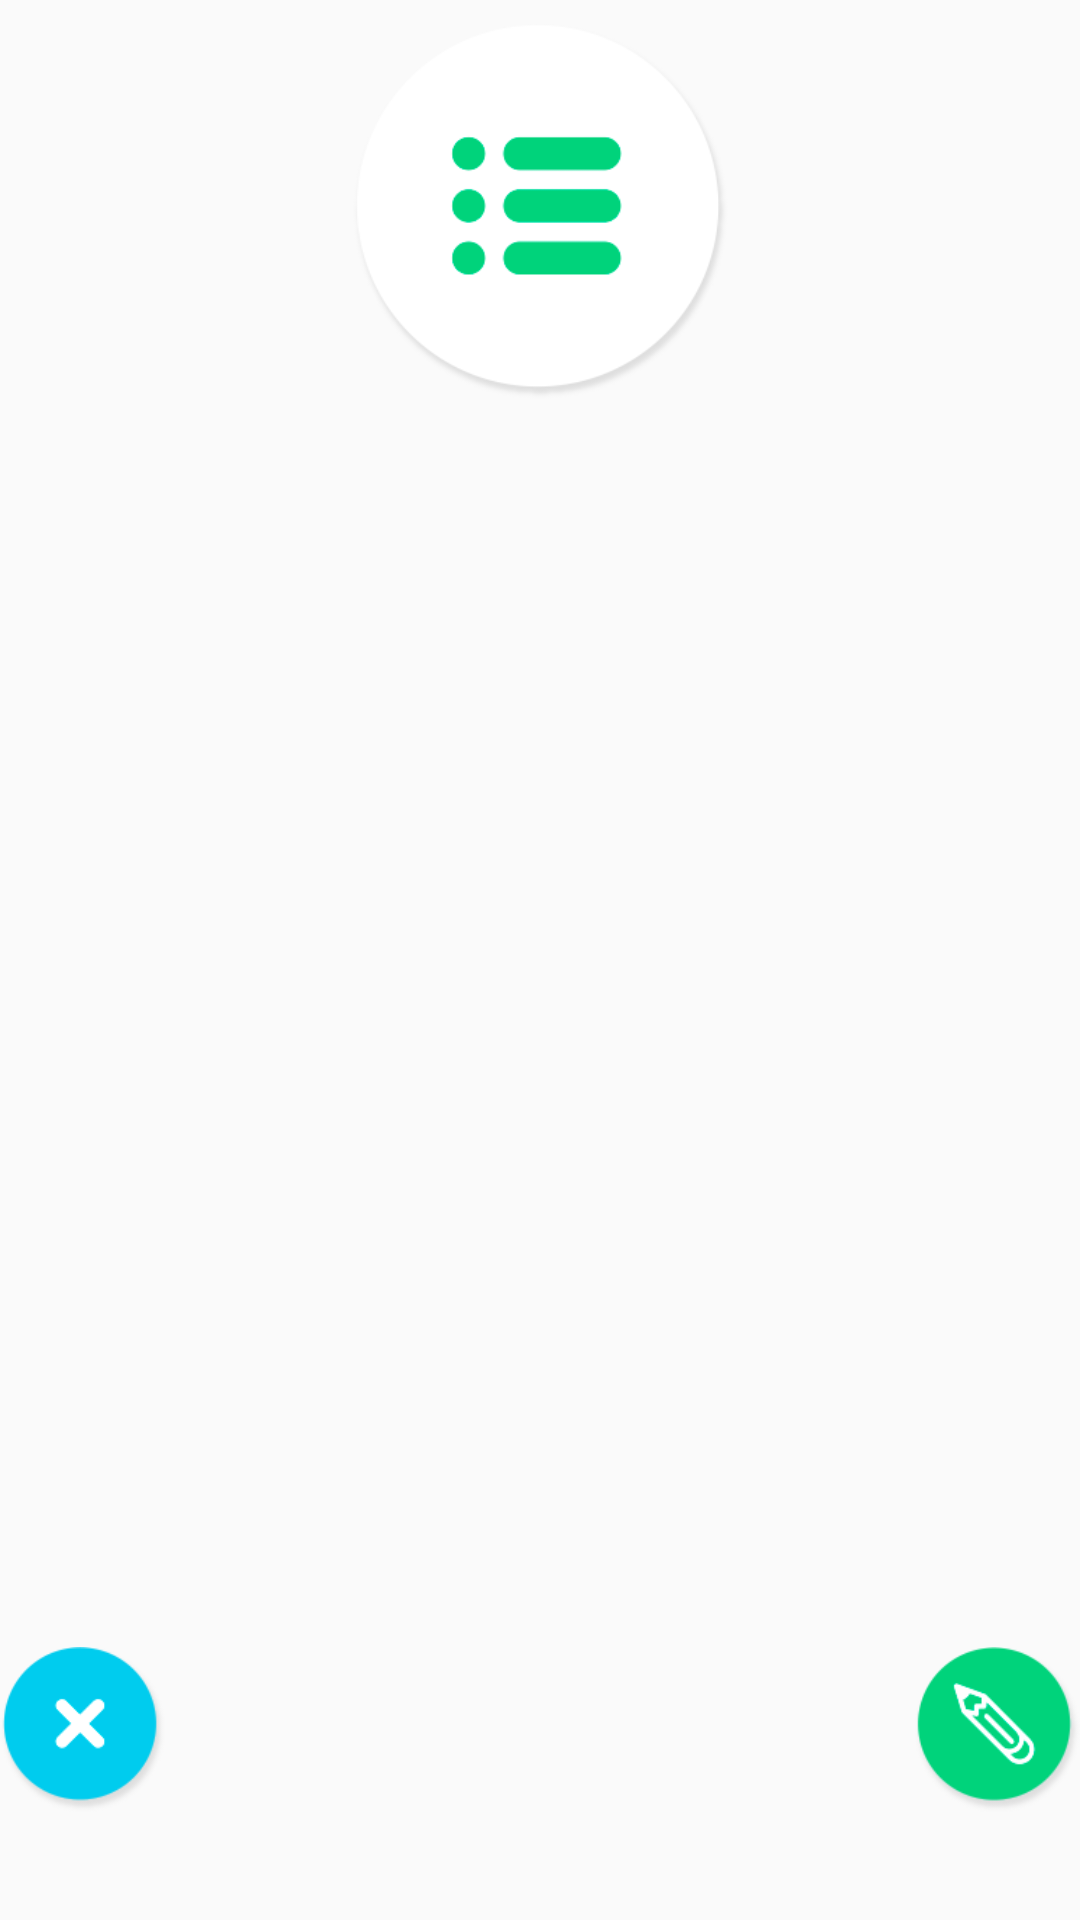

Point at icon controls on the screen. Image size 1080 × 1920, points as (x=x, y=y).
images cross: (x=80, y=1725)
images template: (x=585, y=264)
images template edit: (x=994, y=1725)
